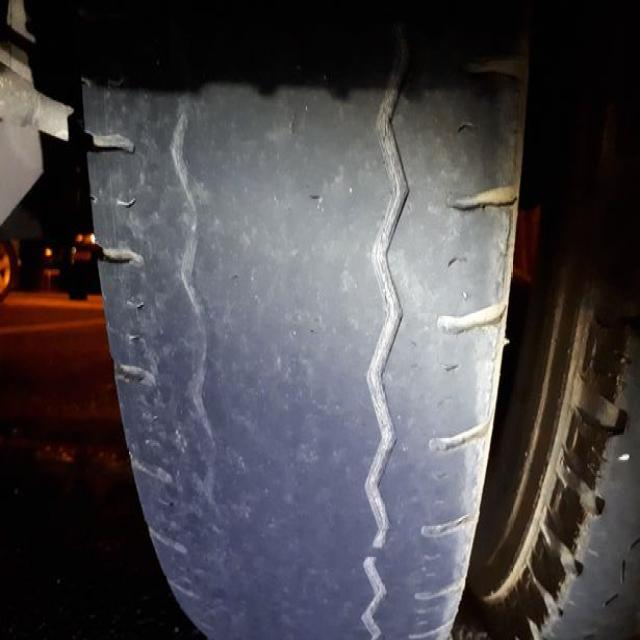Flat spots: (156, 0, 440, 638)
